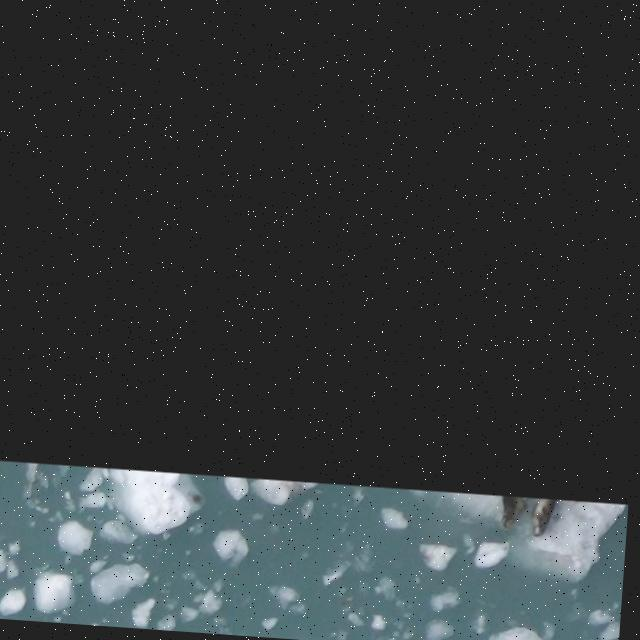seal: (531, 500, 556, 538), (501, 497, 526, 530)
